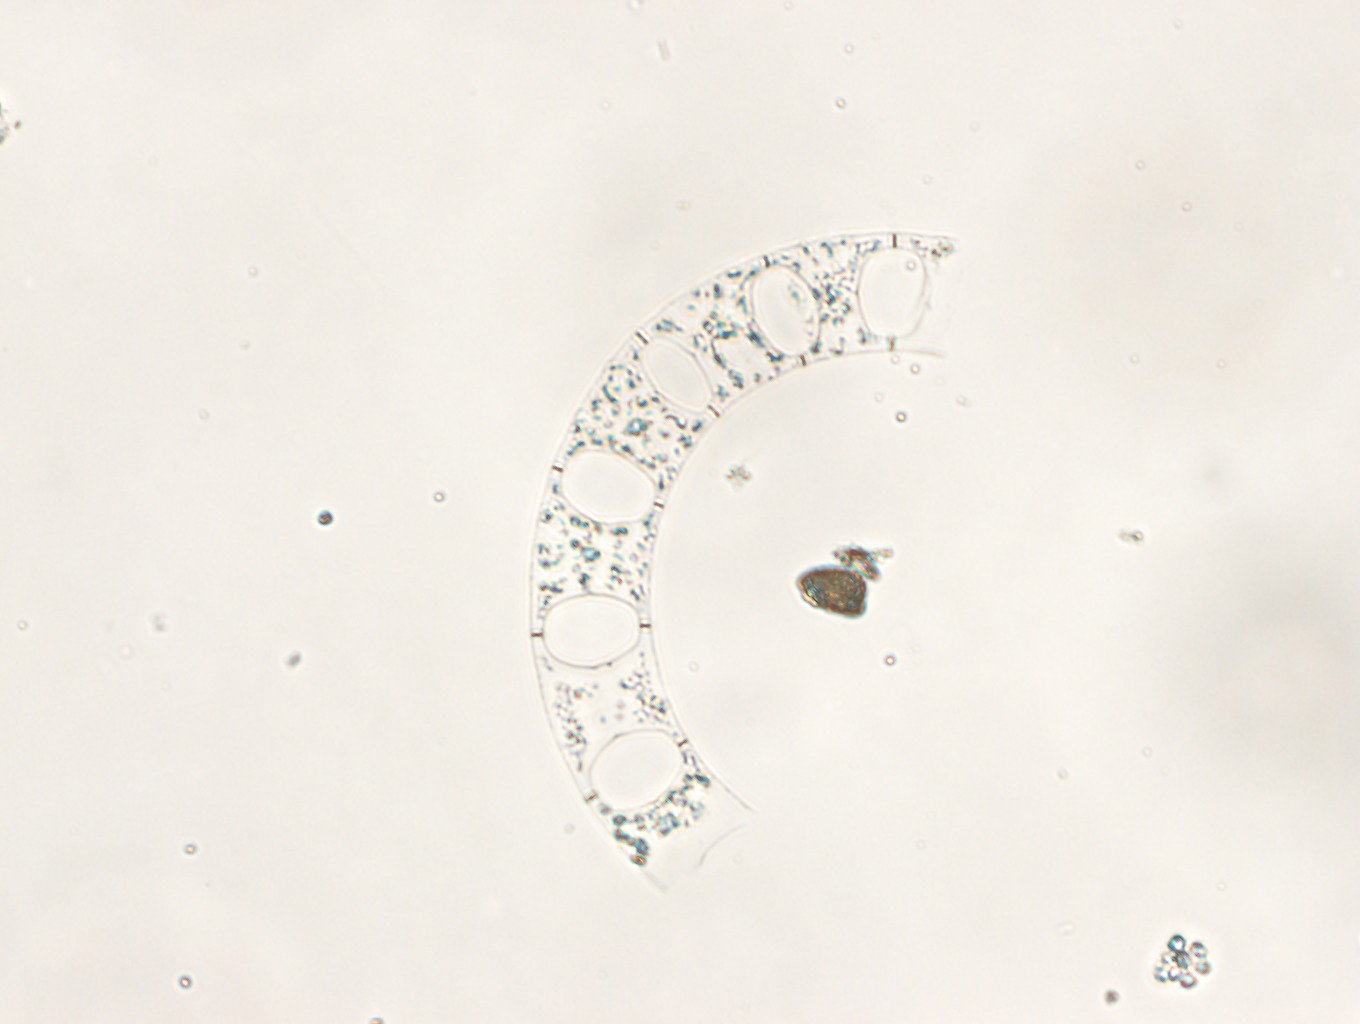eucampia: (529, 231, 960, 891)
